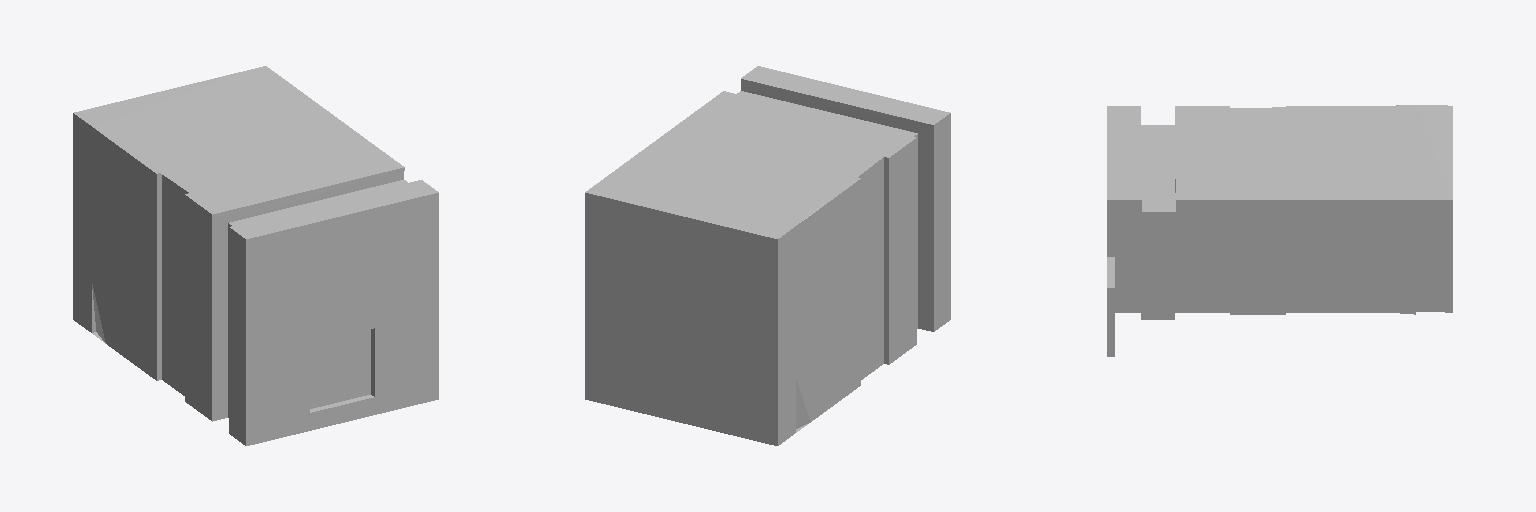
File: BuildingPhase1.obj
3 renders of one model, left to right at view 1: azimuth 30°, elevation 25°; view 2: azimuth 150°, elevation 25°; view 3: azimuth 270°, elevation 25°, orthographic.
Parts seen in each view (by area): view 1: Box001; view 2: Box001; view 3: Box001.
Boxes of the visible parts, x1,y1,x2,y2 form: Box001: [73, 66, 438, 445]; Box001: [585, 66, 950, 445]; Box001: [1107, 105, 1452, 356].
Bounding box in the file's own units: 30.88 × 31.69 × 47.93.